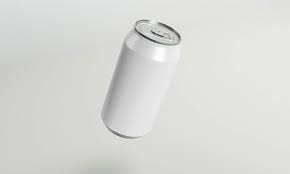can: (104, 14, 186, 143)
